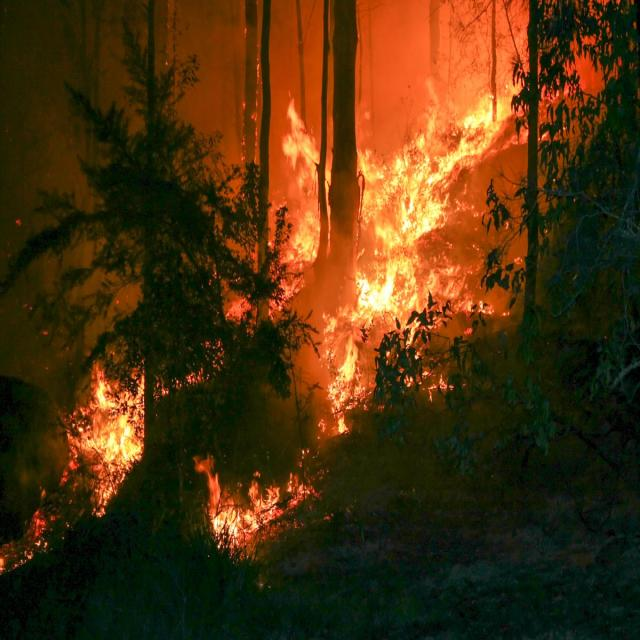Fire: (47, 75, 517, 558)
